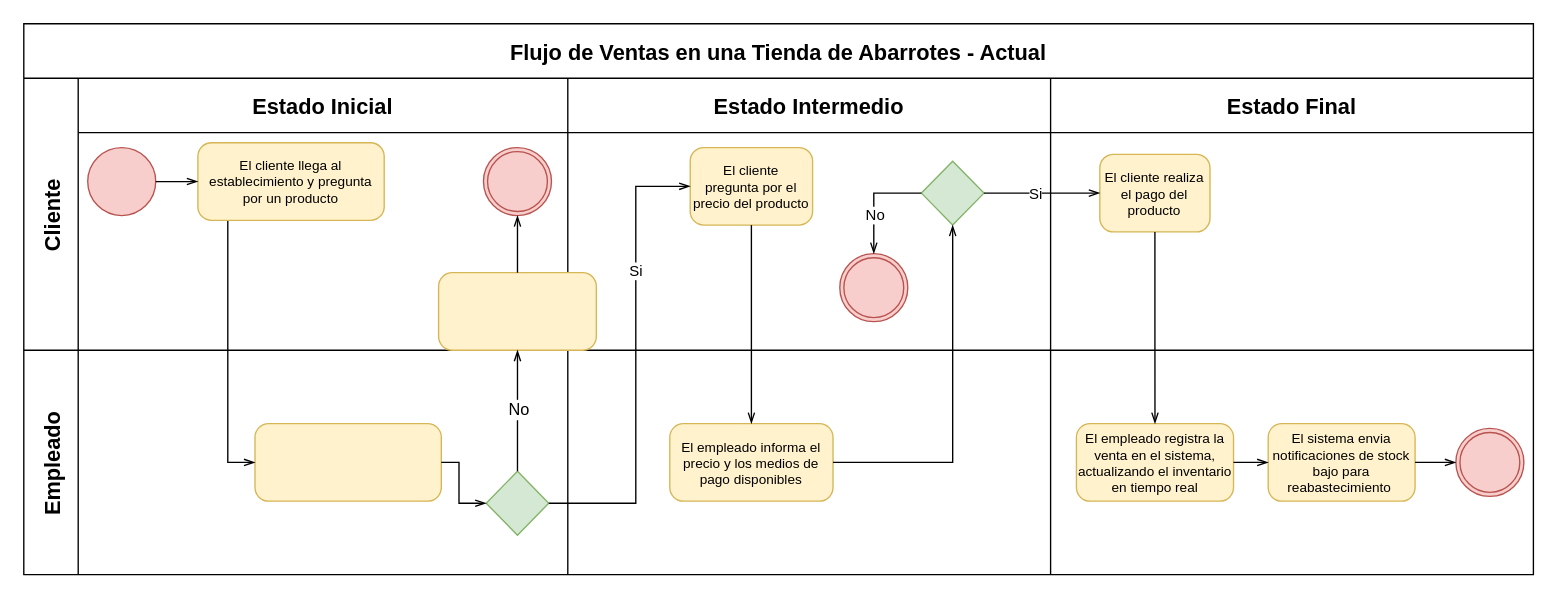
Some shapes in this 1557 by 598 pixel diagram are drawn without their labels. The shapes that lost their labels are listed below. From the top down, each one's box as (x1, y1, x2, y2) in pixels, then its label:
(920, 160, 984, 225): Comprar
(437, 271, 596, 350): El empleado informa al cliente que el producto no está disponible
(254, 422, 441, 501): El empleado verifica y confirma la disponibilidad del producto
(485, 470, 549, 535): Disponible
